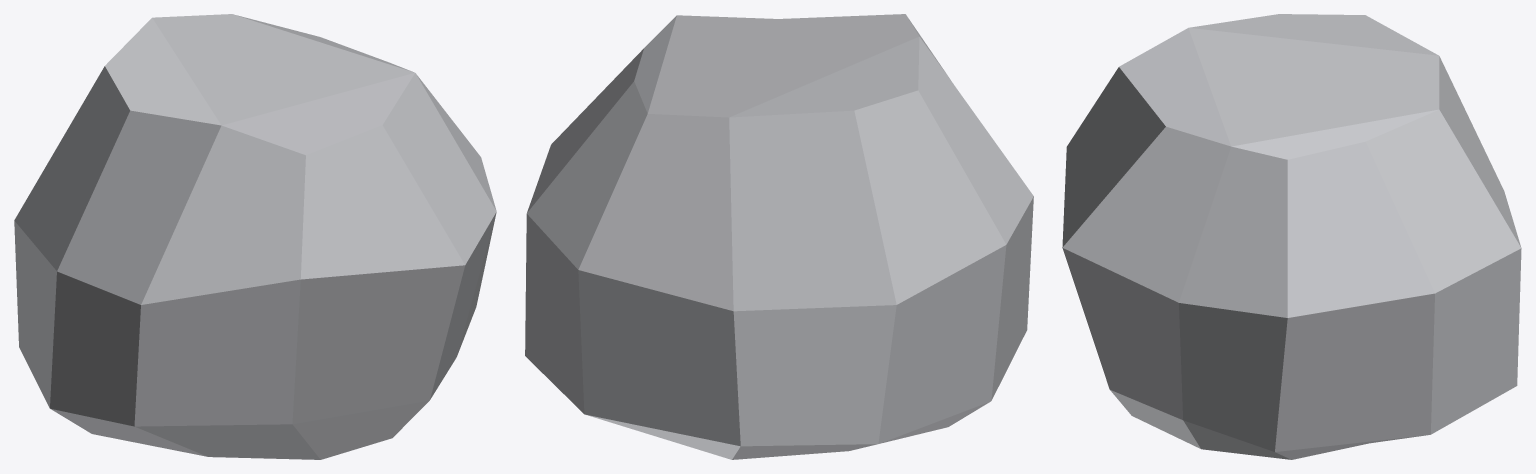
File: Stone.gltf
The picture shows the model from 3 angles, left to right: view 1: azimuth 30°, elevation 25°; view 2: azimuth 150°, elevation 25°; view 3: azimuth 270°, elevation 25°; orthographic projection. The views are drawn at different scales.
Visible parts, largest first — view 1: sphere; view 2: sphere; view 3: sphere.
Boxes of the visible parts, x1,y1,x2,y2 form: sphere: (14,14,496,459); sphere: (525,14,1033,459); sphere: (1062,14,1521,459).
Bounding box in the file's own units: 0.7188 × 0.5153 × 0.6694.
Materials: 1 (1 with a texture image).
